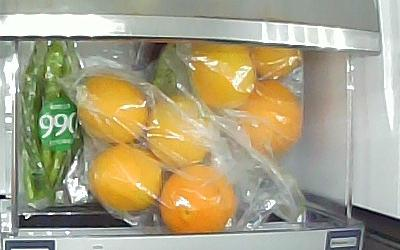orange_vinyl: (87, 141, 165, 211), (158, 162, 235, 232), (76, 70, 149, 143), (234, 78, 302, 154), (145, 93, 211, 166), (189, 41, 255, 108), (248, 45, 303, 80)
